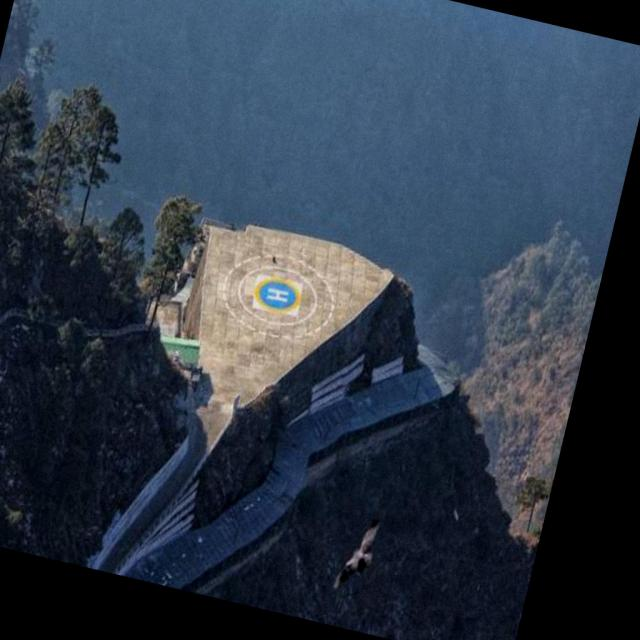helipad: (254, 275, 302, 315)
